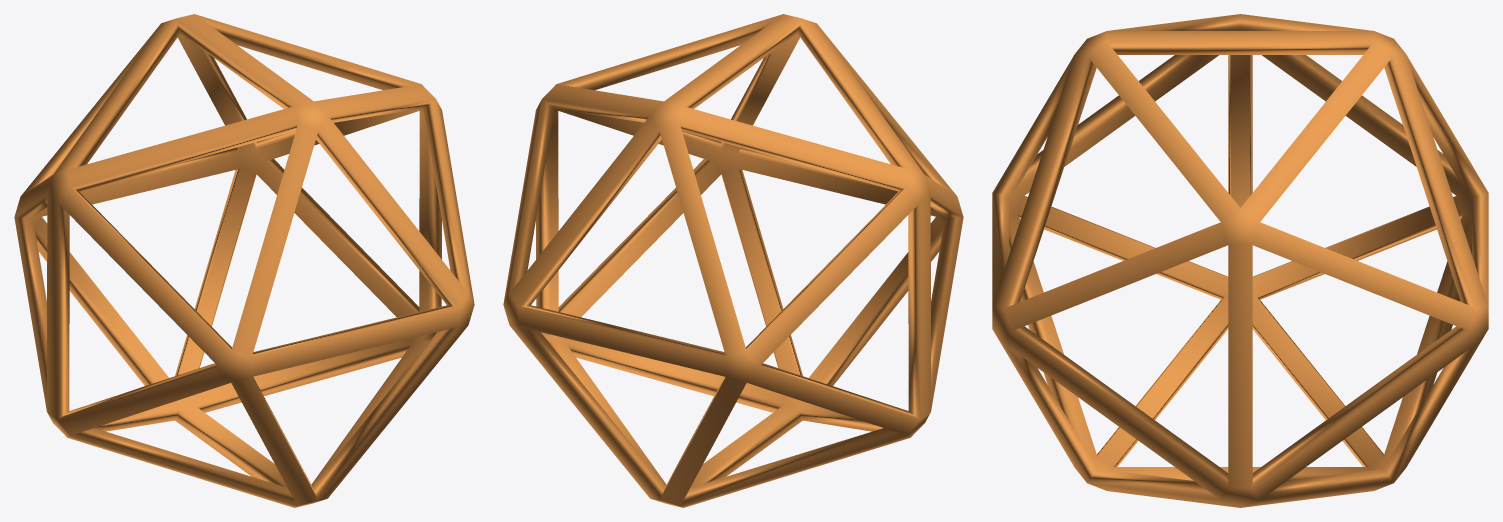
Rendered from MagicCage.fbx.
3 views of the same model, side by side, from view 1: azimuth 30°, elevation 25°; view 2: azimuth 150°, elevation 25°; view 3: azimuth 270°, elevation 25° (orthographic). The views are drawn at different scales.
Visible parts, largest first — view 1: Icosphere.001; view 2: Icosphere.001; view 3: Icosphere.001.
Part boxes in pixels (x1,y1,x2,y2): Icosphere.001: (14, 14, 474, 507); Icosphere.001: (503, 14, 963, 507); Icosphere.001: (992, 14, 1488, 507).
Bounding box in the file's own units: 35.74 × 35.7 × 35.7.
